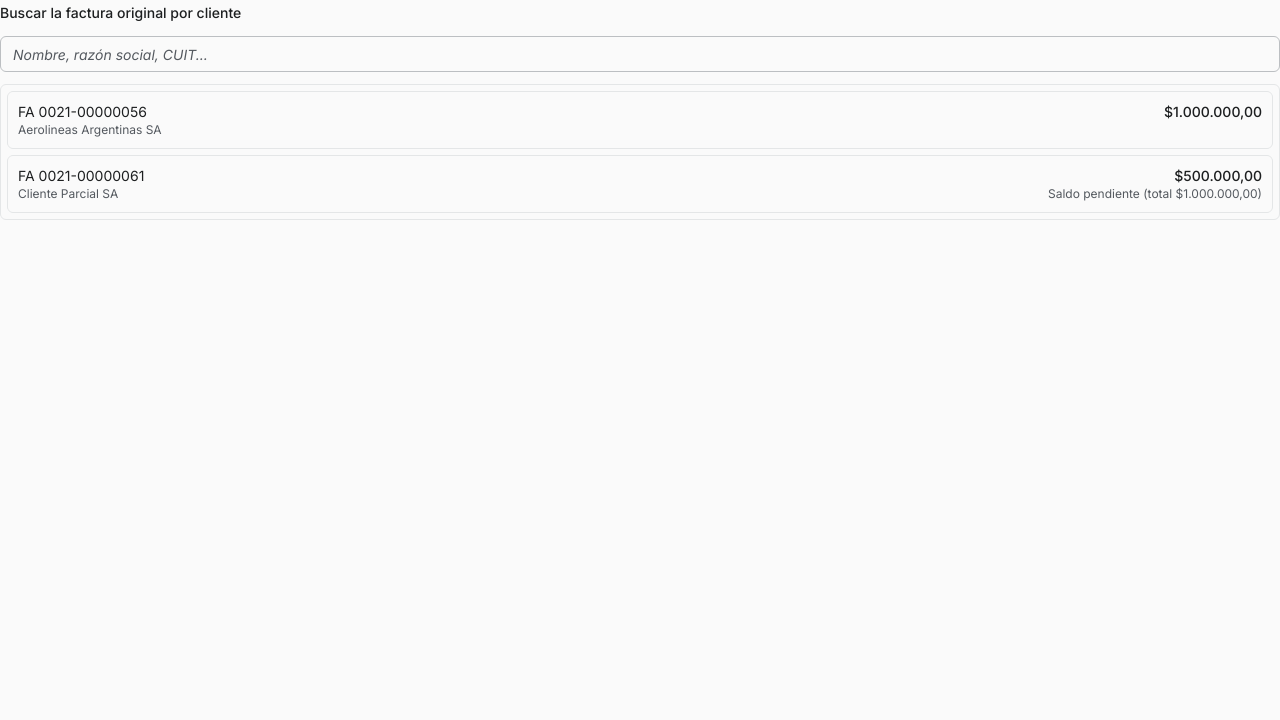
NotaDebitoCentroDialog — no tapa el importe con el saldo acreditable › aclara que esta ND no revierte una Nota de Crédito
In the field with test id "input-buscar-comprobante-nc-nd": (640, 54) [0,36,1279,72], type "a"
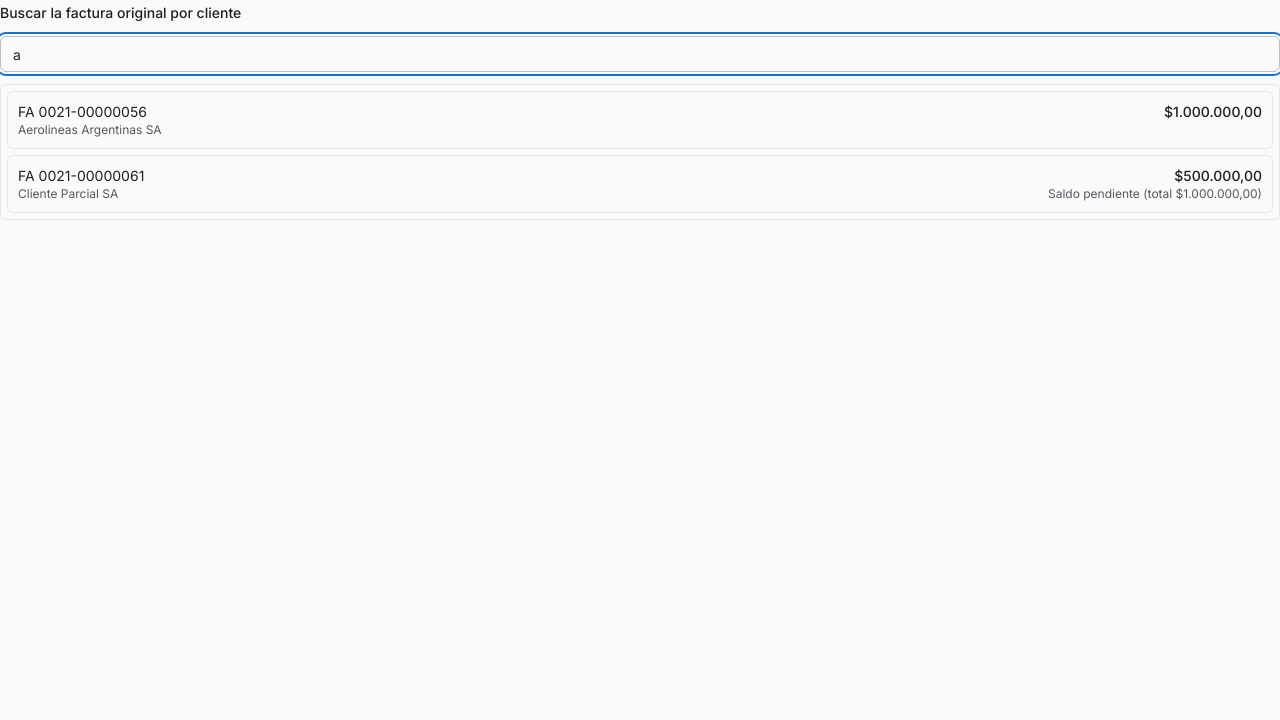
Click the button with test id "row-invoice-nc-nd-4": (55, 176) [7,155,1273,213]
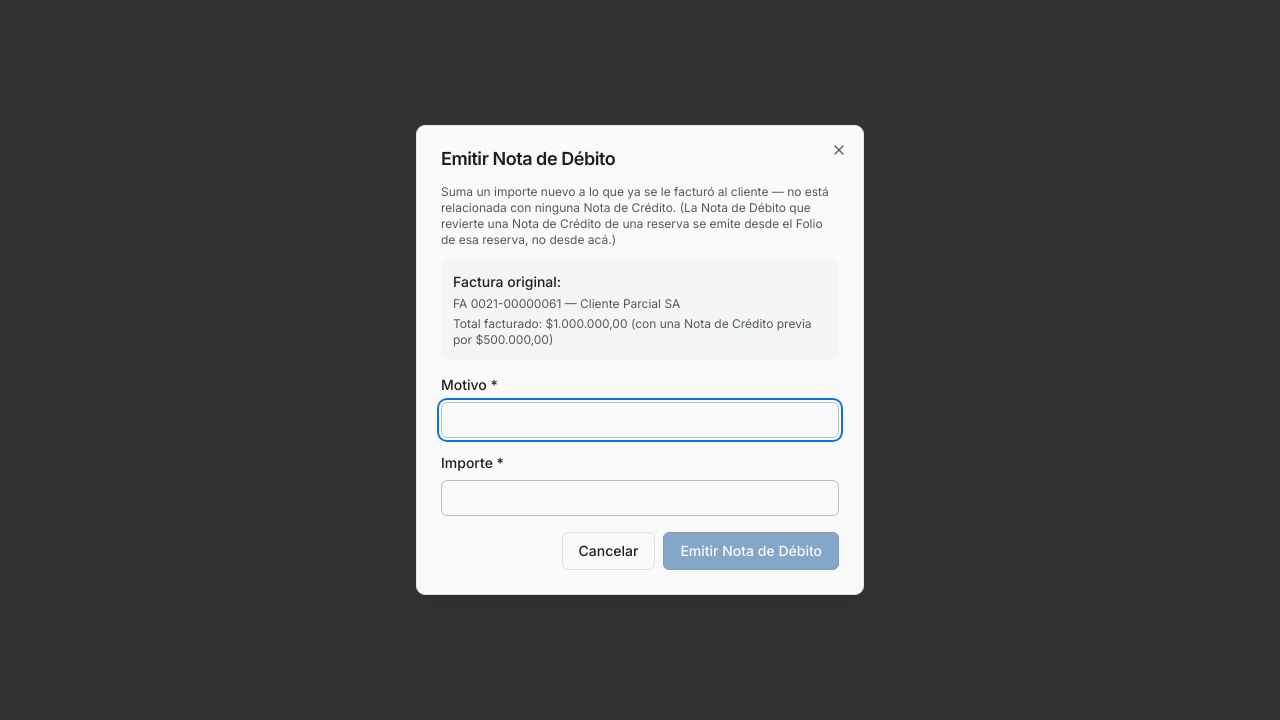
Expected: the text "no está relacionada con ninguna" is shown, [441,184,829,247]
